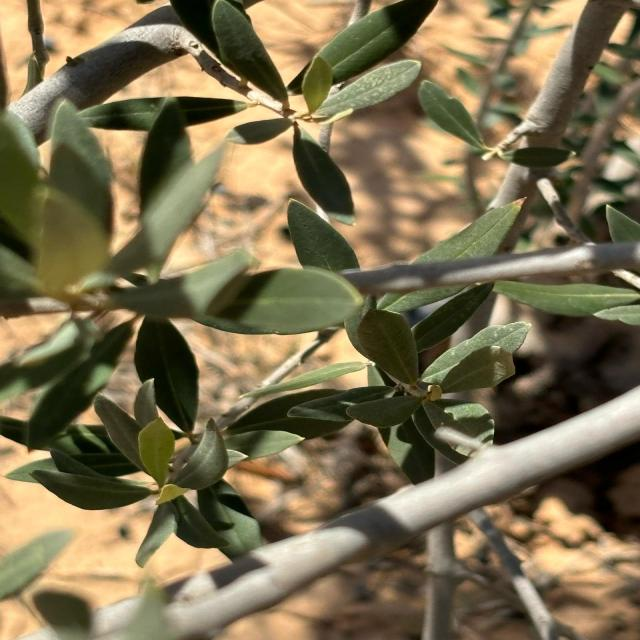Healthy: (95, 381, 308, 566), (211, 0, 294, 116), (32, 444, 155, 508), (134, 318, 199, 434), (310, 60, 421, 121), (293, 122, 355, 224), (357, 309, 420, 391), (347, 395, 421, 428)
